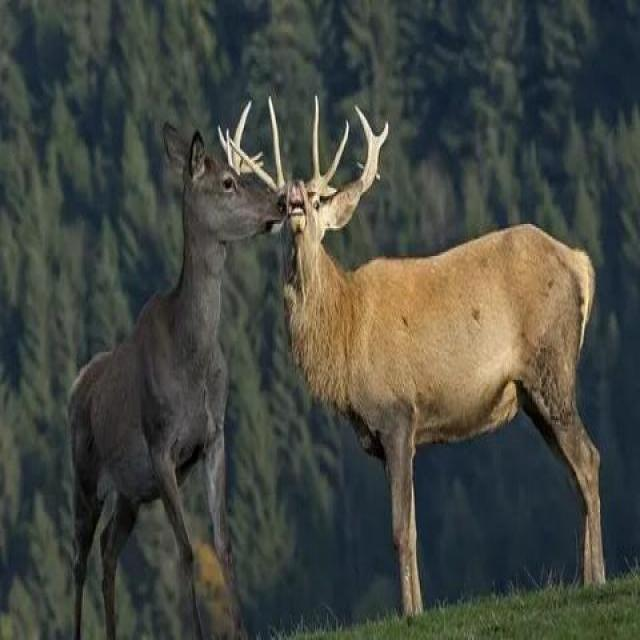deer: (240, 71, 610, 510), (51, 94, 304, 566)
